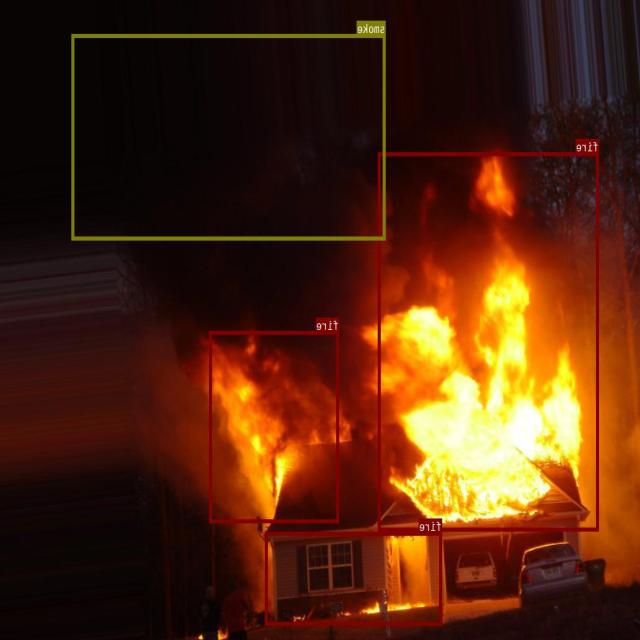fire: (379, 152, 599, 530), (210, 330, 339, 522), (266, 531, 442, 625)
smoke: (72, 34, 386, 239)
